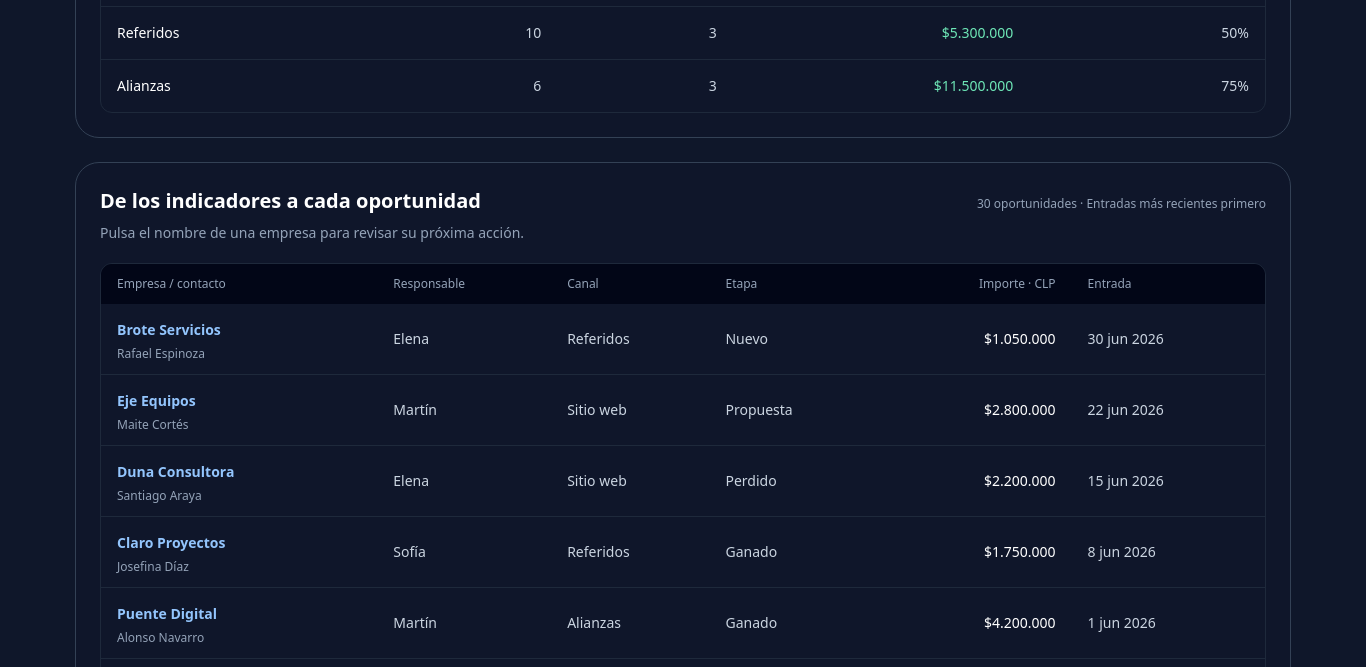
Scenario: CommercialDashboardComponent › opens a real row detail and clears that detail when filters exclude the opportunity
The image size is (1366, 667).
(page scrolled)
Click the button with aria-label "Ver oportunidad de Brote Servicios" at [169, 330], box [117,316,221,344]
(page scrolled)
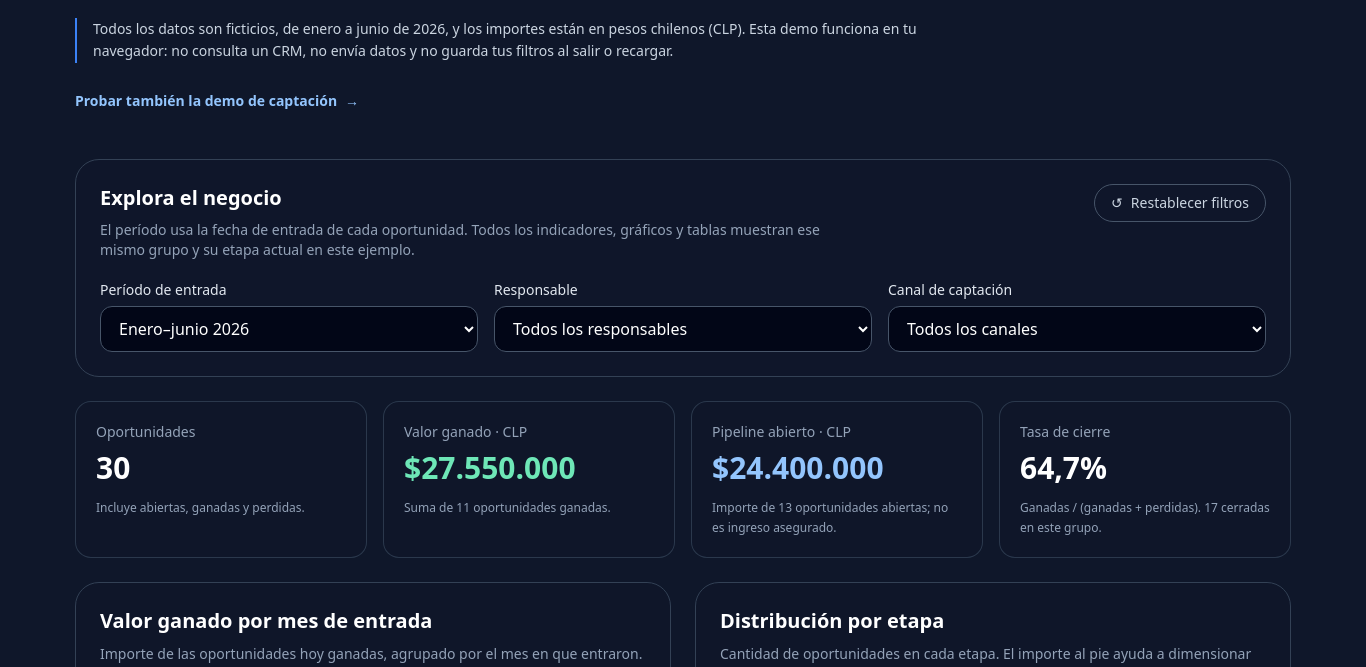
Select "Sofía" in the dropdown with id "dashboard-owner" at [683, 329], box [494,306,872,352]
(page scrolled)
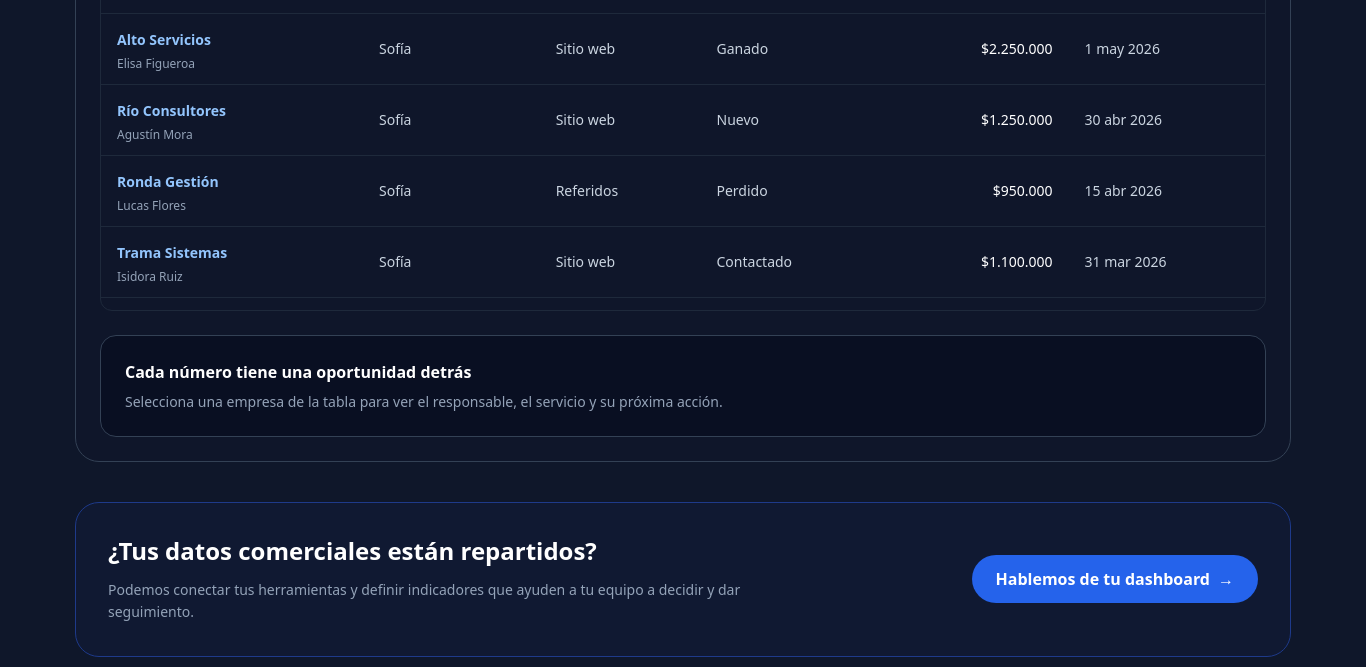
expect the button with id "dashboard-opportunity-detail" does not show "Brote Servicios": met
expect the element with id "dashboard-opportunity-detail" shows "Selecciona una empresa": met, box [125,392,723,410]
